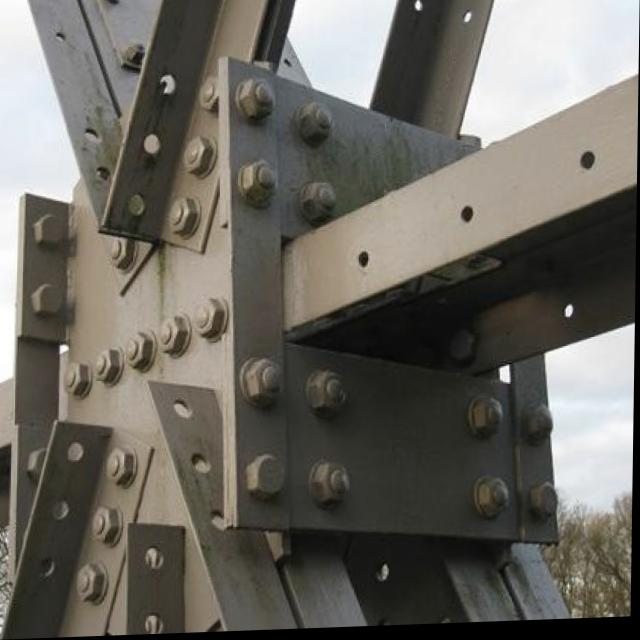Regular bolt: (312, 370, 350, 418), (251, 453, 287, 501), (247, 361, 286, 404), (315, 462, 350, 509), (297, 104, 335, 141), (185, 136, 216, 181), (245, 162, 279, 203), (474, 399, 507, 440), (306, 181, 339, 220), (242, 81, 274, 120), (160, 315, 189, 358), (198, 295, 225, 340), (531, 485, 562, 523), (480, 480, 509, 519), (172, 198, 200, 238), (129, 333, 156, 374), (78, 563, 106, 602), (109, 449, 137, 486), (34, 283, 65, 316), (95, 506, 121, 545), (110, 237, 137, 273), (530, 408, 555, 446), (36, 214, 65, 245), (97, 351, 121, 388), (66, 364, 91, 398), (125, 39, 147, 64)
